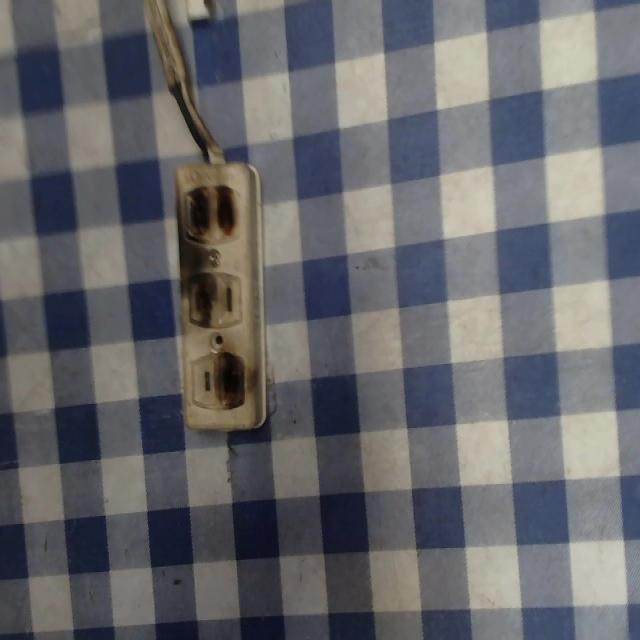-: (178, 184, 242, 241), (183, 268, 223, 329), (214, 350, 247, 406)
